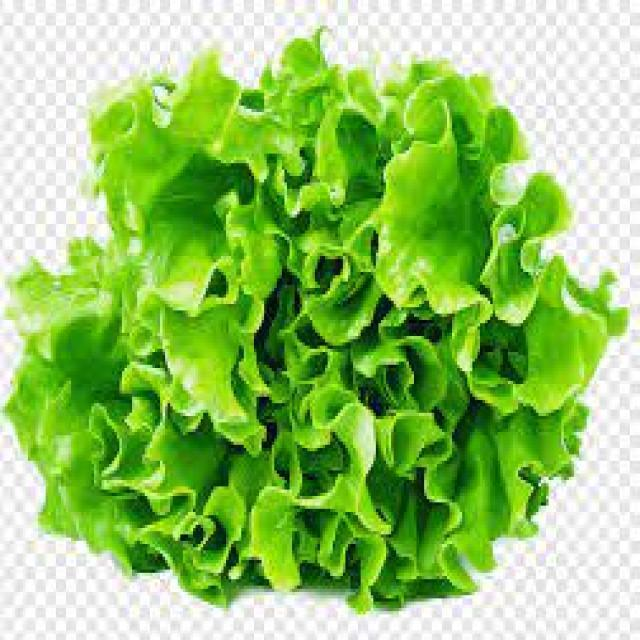Healthy: (88, 98, 546, 574)
